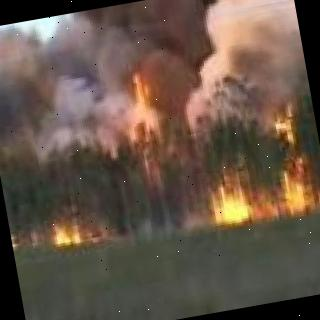fire: (201, 107, 320, 224), (125, 56, 177, 160), (52, 212, 90, 243)
